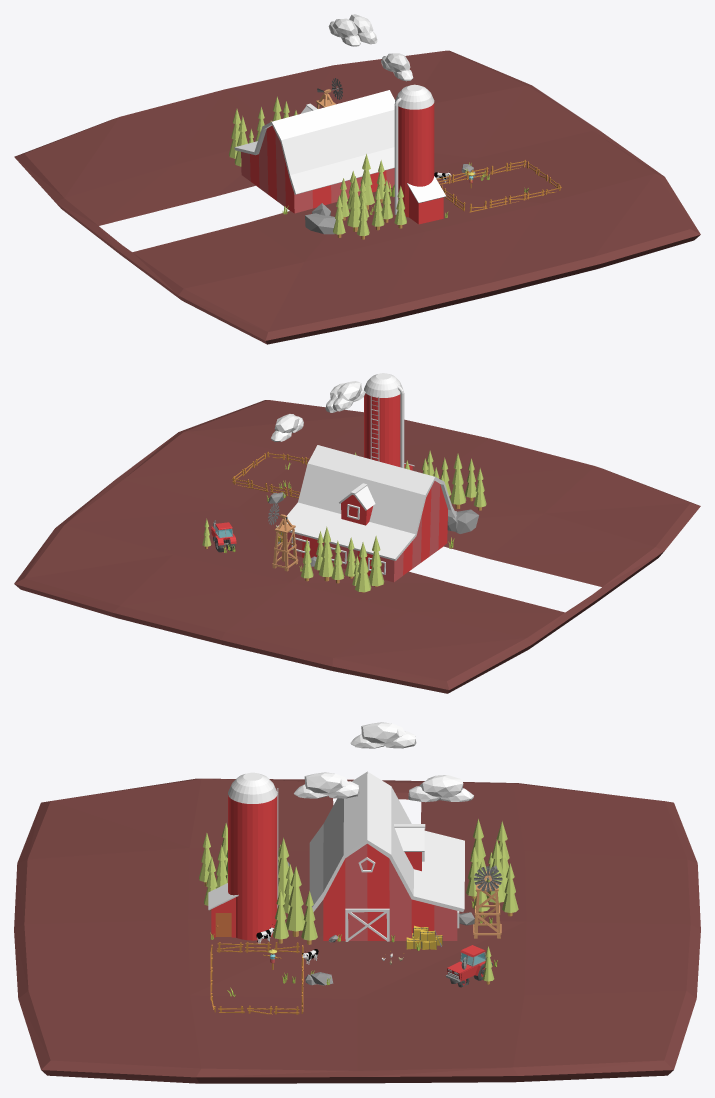
The model's file is farm.fbx.
3 views of the same model, one above another, from view 1: azimuth 30°, elevation 25°; view 2: azimuth 150°, elevation 25°; view 3: azimuth 270°, elevation 25° (orthographic). The views are drawn at different scales.
Visible parts, largest first — view 1: Object_20, Object_17, Object_28, Object_31, Object_32, Object_14, Object_10, Object_2, Object_13, Object_39; view 2: Object_20, Object_17, Object_28, Object_31, Object_32, Object_14, Object_2, Object_10, Object_18, Object_39, Object_13; view 3: Object_20, Object_17, Object_28, Object_31, Object_32, Object_2, Object_14, Object_10, Object_13, Object_18, Object_22, Object_24 (+1 smaller).
Part boxes in pixels (bbox=[...]): Object_20: bbox=[14, 50, 700, 344]; Object_17: bbox=[24, 65, 690, 308]; Object_28: bbox=[234, 90, 394, 194]; Object_31: bbox=[250, 103, 443, 224]; Object_32: bbox=[229, 96, 406, 236]; Object_14: bbox=[241, 129, 394, 213]; Object_10: bbox=[394, 84, 446, 214]; Object_2: bbox=[328, 14, 413, 81]; Object_13: bbox=[436, 160, 561, 212]; Object_39: bbox=[305, 164, 475, 234]; Object_20: bbox=[14, 400, 700, 693]; Object_17: bbox=[64, 400, 654, 681]; Object_28: bbox=[278, 394, 456, 574]; Object_31: bbox=[302, 393, 447, 575]; Object_32: bbox=[202, 450, 486, 592]; Object_14: bbox=[287, 481, 439, 582]; Object_2: bbox=[271, 381, 365, 441]; Object_10: bbox=[364, 373, 414, 468]; Object_18: bbox=[272, 514, 298, 571]; Object_39: bbox=[268, 492, 478, 566]; Object_13: bbox=[231, 452, 309, 498]; Object_20: bbox=[14, 778, 700, 1083]; Object_17: bbox=[24, 779, 690, 1070]; Object_28: bbox=[277, 771, 464, 941]; Object_31: bbox=[211, 795, 434, 940]; Object_32: bbox=[199, 819, 518, 981]; Object_2: bbox=[294, 722, 473, 802]; Object_14: bbox=[345, 844, 457, 940]; Object_10: bbox=[208, 772, 277, 910]; Object_13: bbox=[210, 942, 303, 1014]; Object_18: bbox=[473, 871, 501, 938]; Object_22: bbox=[406, 925, 442, 949]; Object_24: bbox=[447, 945, 493, 985].
Size of the model in its own units: 39762 by 13857 by 38642.
